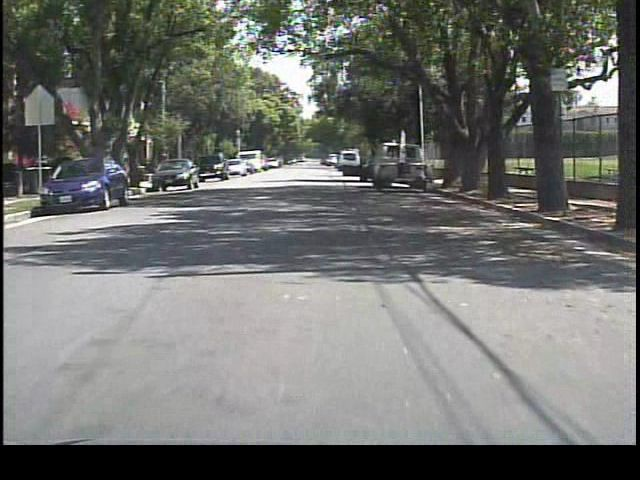person: (358, 159, 374, 187)
